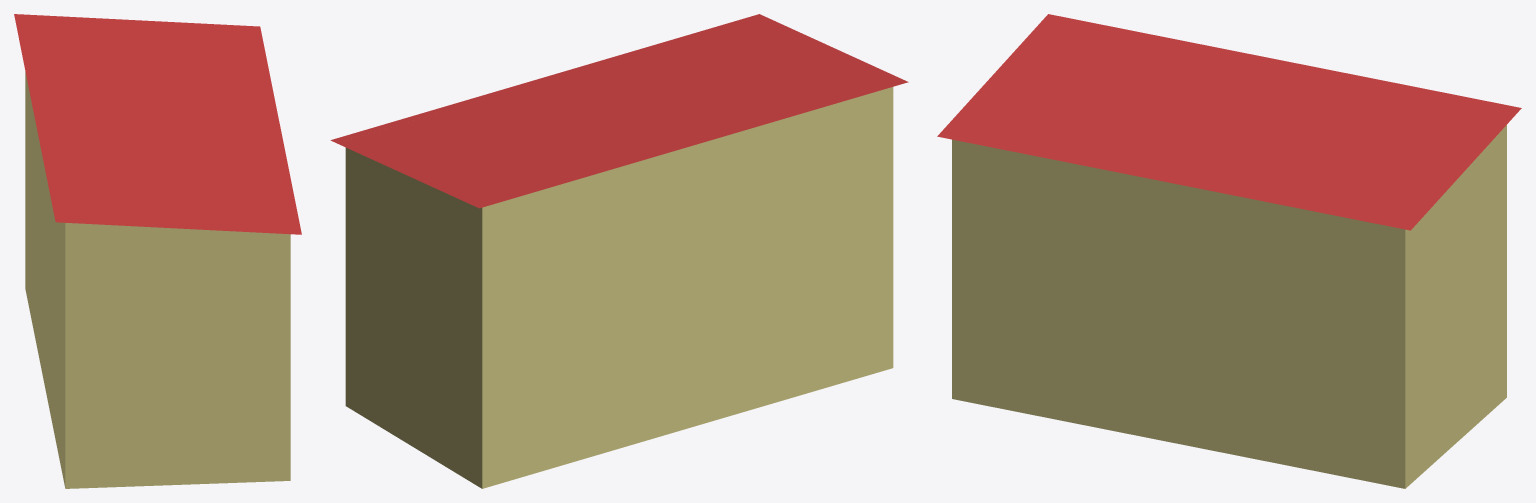
The picture shows the model from 3 angles, left to right: view 1: azimuth 30°, elevation 25°; view 2: azimuth 150°, elevation 25°; view 3: azimuth 270°, elevation 25°; orthographic projection. The views are drawn at different scales.
Size of the model in its own units: 10.23 by 13.03 by 7.06.
